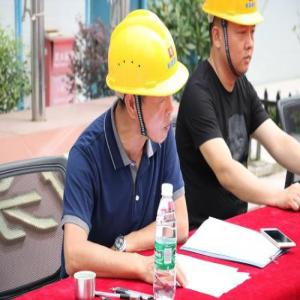yellow: (108, 10, 185, 145), (204, 2, 262, 80)
